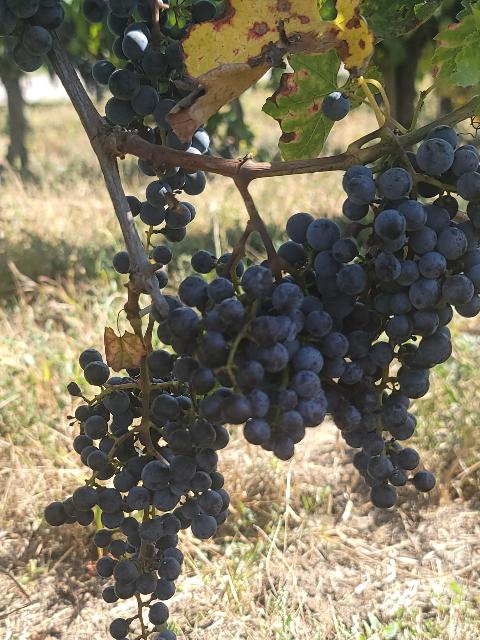grapes: (315, 129, 480, 508), (45, 350, 232, 640), (158, 251, 345, 460), (82, 0, 218, 155), (128, 159, 205, 241), (151, 246, 171, 270)
